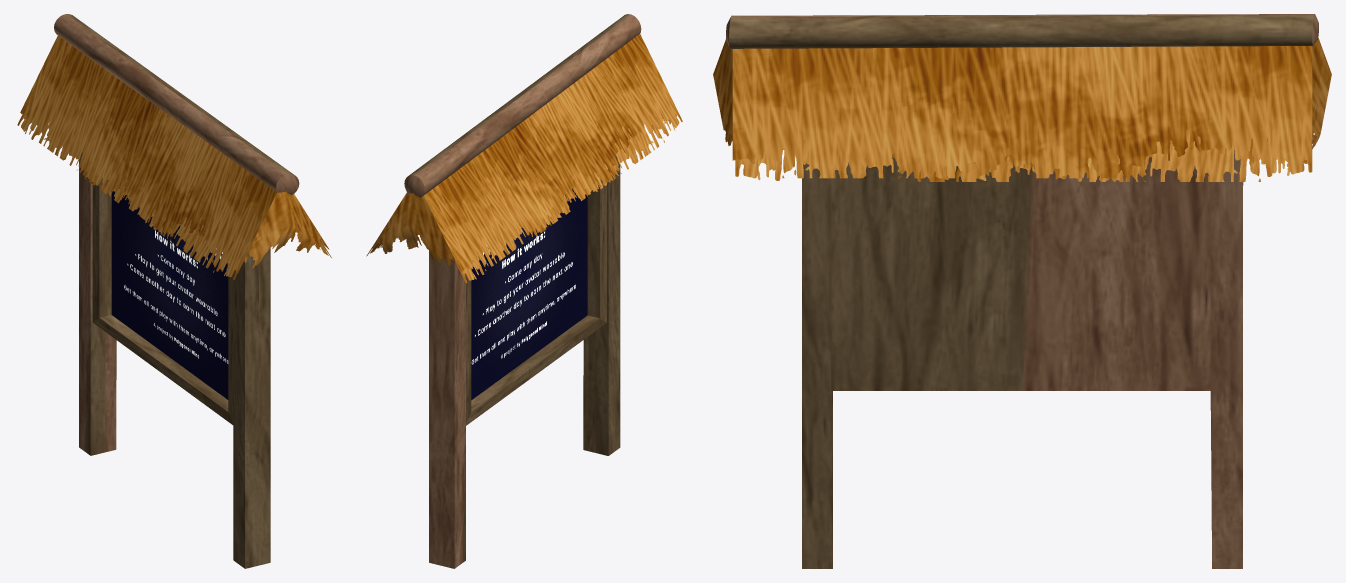
File: s0_Str_Information_Board_Art_01.glb
3 views of the same model, side by side, from view 1: azimuth 30°, elevation 25°; view 2: azimuth 150°, elevation 25°; view 3: azimuth 270°, elevation 25° (orthographic). The views are drawn at different scales.
Visible parts, largest first — view 1: node_Str_Information_Board_Art; view 2: node_Str_Information_Board_Art; view 3: node_Str_Information_Board_Art.
Boxes of the visible parts, box(x1,y1,x2,y2) form: node_Str_Information_Board_Art: box(17, 14, 331, 568); node_Str_Information_Board_Art: box(366, 14, 682, 568); node_Str_Information_Board_Art: box(713, 14, 1331, 568).
Size of what is drawn, in the model's own units: 1.73 by 6.58 by 6.76.
3 materials, 3 textured.
